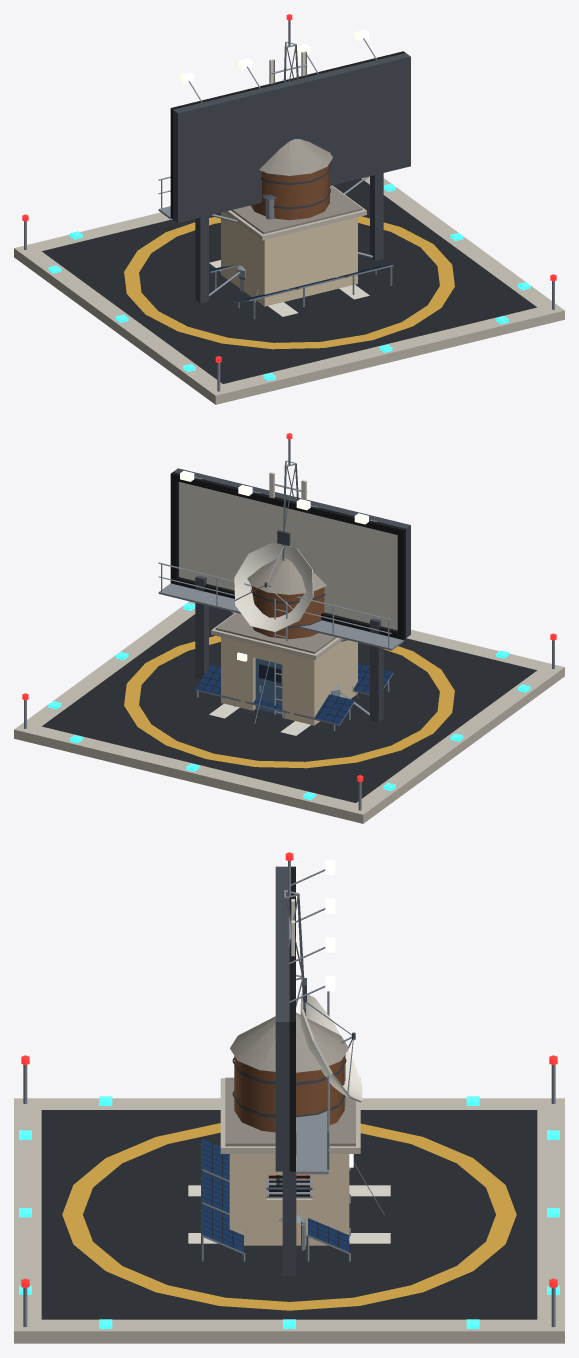
Rendered from kit_roof.glb.
3 renders of one model, top to bottom at view 1: azimuth 30°, elevation 25°; view 2: azimuth 150°, elevation 25°; view 3: azimuth 270°, elevation 25°, orthographic. The views are drawn at different scales.
Visible parts, largest first — view 1: Roof_Helipad_Pad, Roof_Billboard_Frame, Roof_Stairs_Box, Roof_Tank, Roof_Solar_Panels, Roof_Antenna_A; view 2: Roof_Helipad_Pad, Roof_Billboard_Frame, Roof_Stairs_Box, Roof_Tank, Roof_Antenna_B, Roof_Solar_Panels, Roof_Antenna_A; view 3: Roof_Helipad_Pad, Roof_Stairs_Box, Roof_Billboard_Frame, Roof_Tank, Roof_Solar_Panels, Roof_Antenna_B, Roof_Antenna_A, Roof_AC_B.
Boxes of the visible parts, x1,y1,x2,y2 form: Roof_Helipad_Pad: (14,176,564,404); Roof_Billboard_Frame: (158,30,410,303); Roof_Stairs_Box: (221,185,366,306); Roof_Tank: (250,139,332,220); Roof_Solar_Panels: (209,264,393,319); Roof_Antenna_A: (269,14,307,84); Roof_Helipad_Pad: (14,601,564,823); Roof_Billboard_Frame: (158,468,410,722); Roof_Stairs_Box: (211,612,357,725); Roof_Tank: (247,545,326,714); Roof_Antenna_B: (234,542,358,723); Roof_Solar_Panels: (195,663,393,730); Roof_Antenna_A: (269,433,307,560); Roof_Helipad_Pad: (14,1055,564,1343); Roof_Stairs_Box: (220,1077,360,1245); Roof_Billboard_Frame: (275,859,335,1275); Roof_Tank: (230,1012,348,1189); Roof_Solar_Panels: (201,1139,350,1261); Roof_Antenna_B: (244,993,384,1241); Roof_Antenna_A: (275,852,306,1179); Roof_AC_B: (266,1175,312,1250).
Size of the model in its own units: 12 by 9.02 by 12.
